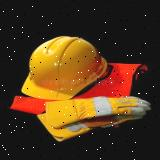Helmet: (21, 35, 107, 100)
